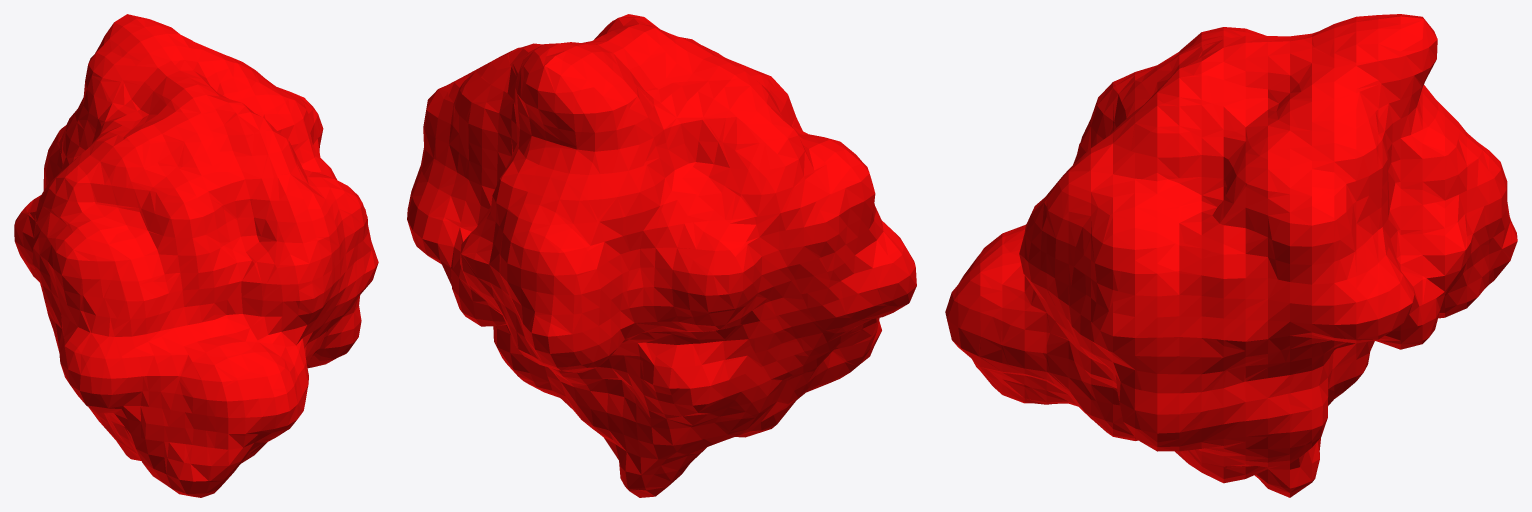
File: dcp_coarse.dae
The picture shows the model from 3 angles, left to right: view 1: azimuth 30°, elevation 25°; view 2: azimuth 150°, elevation 25°; view 3: azimuth 270°, elevation 25°; orthographic projection. The views are drawn at different scales.
Visible parts, largest first — view 1: dcp; view 2: dcp; view 3: dcp.
Boxes of the visible parts, box(x1,y1,x2,y2) form: dcp: box(14, 14, 378, 497); dcp: box(407, 14, 916, 497); dcp: box(945, 14, 1517, 497).
Bounding box in the file's own units: 67.09 × 77.72 × 80.97.
